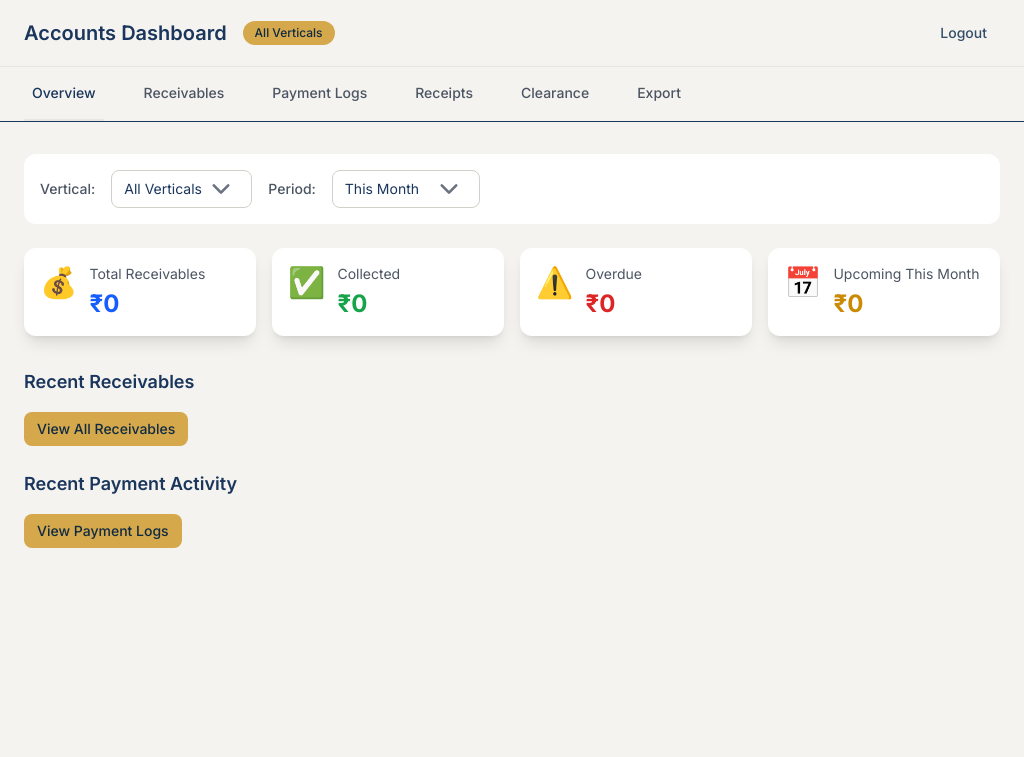
Task 16: Accounts / Accounting Team Dashboards › 16.1 - Tab Navigation › should switch to Export tab
Click the button "Export". click: point(659, 94)
box: [629,67,689,121]
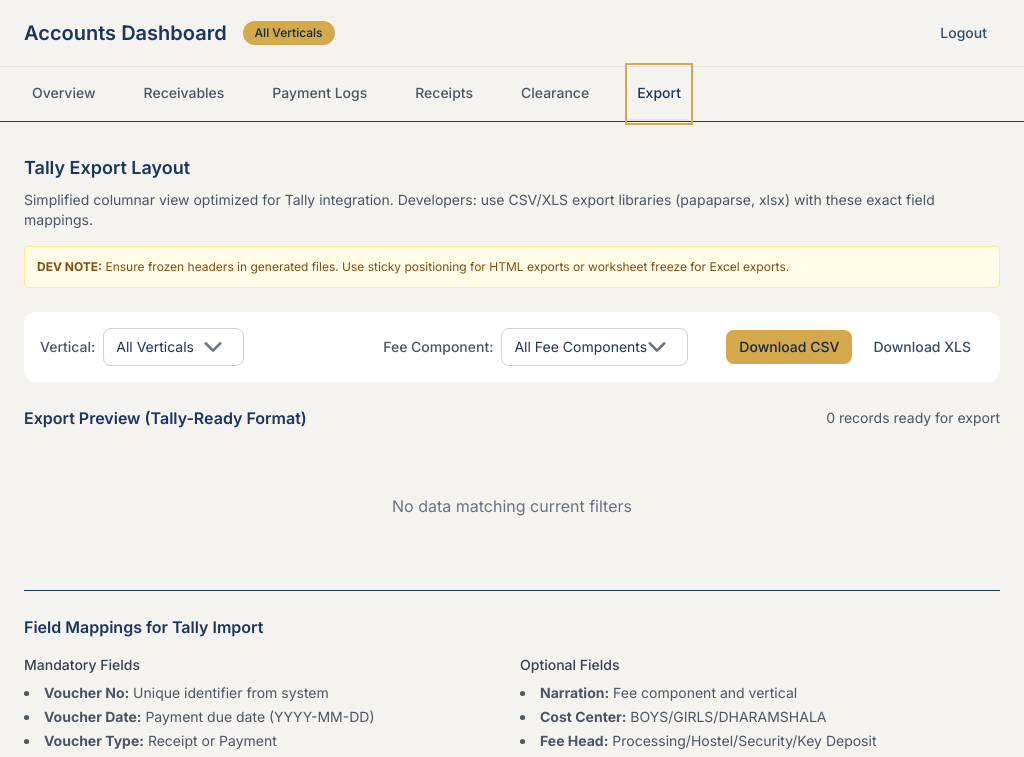
Check: the heading "Tally Export Layout" is shown, box [24,157,190,178]
